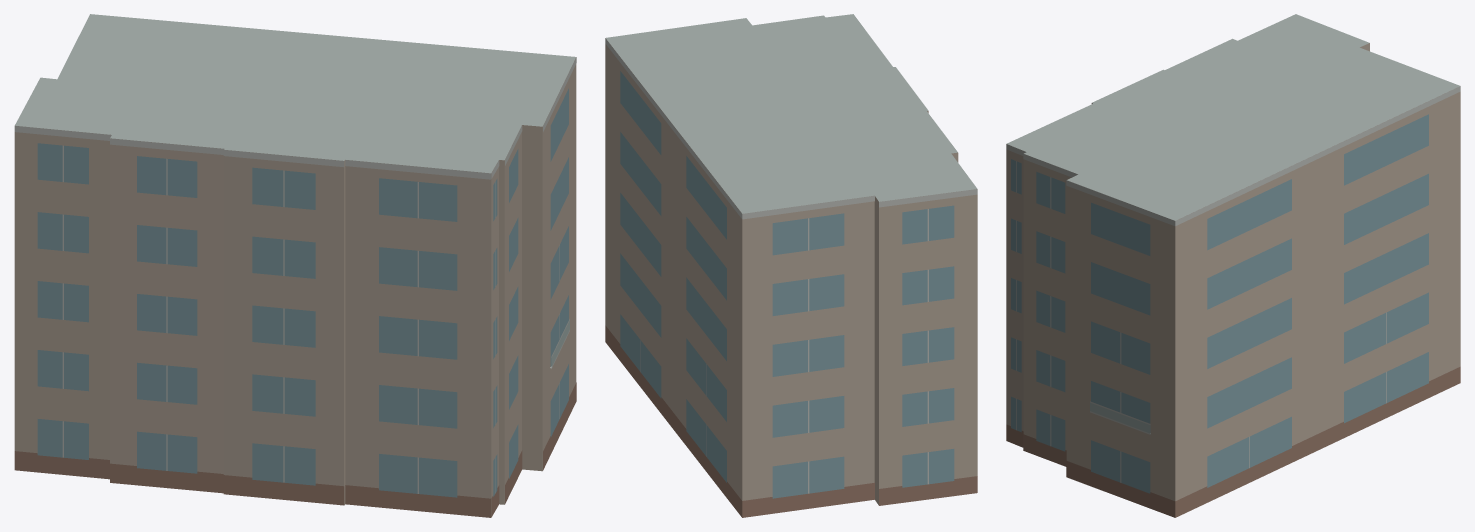
The model's file is survey-upis-32917421.glb.
3 renders of one model, left to right at view 1: azimuth 30°, elevation 25°; view 2: azimuth 150°, elevation 25°; view 3: azimuth 270°, elevation 25°, orthographic. The views are drawn at different scales.
Visible parts, largest first — view 1: survey-upis-32917421.tmp; view 2: survey-upis-32917421.tmp; view 3: survey-upis-32917421.tmp.
Part boxes in pixels (x1,y1,x2,y2): survey-upis-32917421.tmp: (14, 14, 576, 517); survey-upis-32917421.tmp: (605, 14, 977, 517); survey-upis-32917421.tmp: (1006, 14, 1460, 517).
Bounding box in the file's own units: 19.8 × 13.25 × 18.38.
